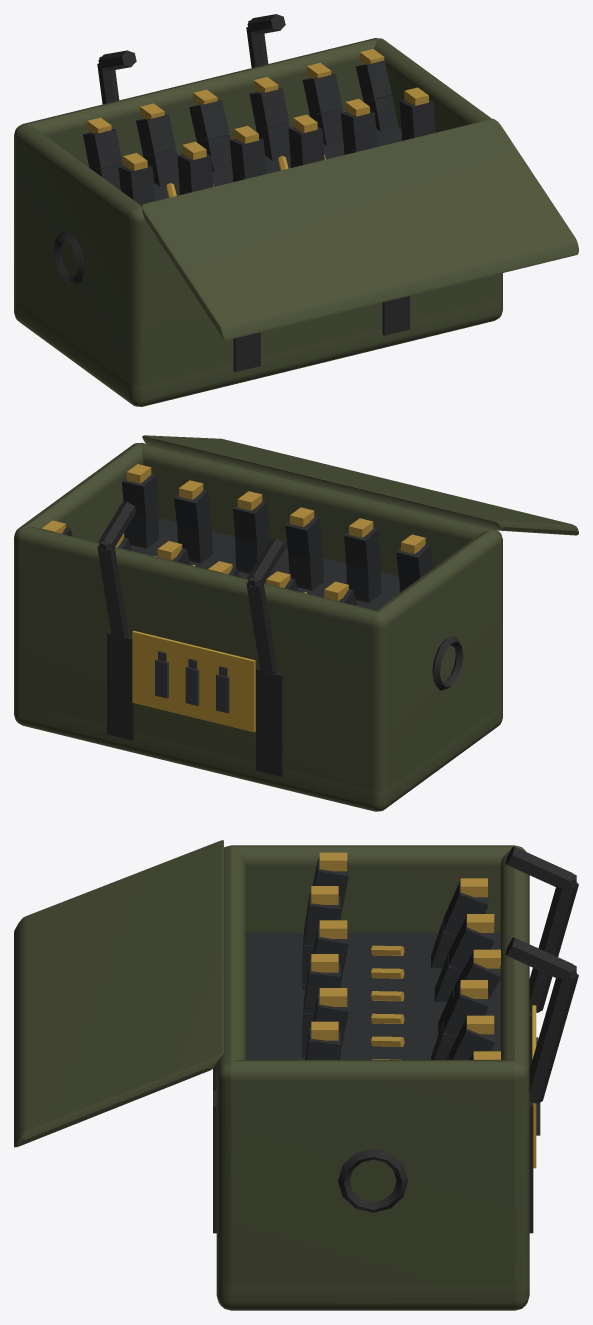
File: prop_deploy_ammo_bag.glb
3 views of the same model, one above another, from view 1: azimuth 30°, elevation 25°; view 2: azimuth 150°, elevation 25°; view 3: azimuth 270°, elevation 25° (orthographic). The views are drawn at different scales.
Parts seen in each view (by area): view 1: Bag; view 2: Bag; view 3: Bag.
Boxes of the visible parts, bbox=[...] form: Bag: bbox=[14, 14, 578, 406]; Bag: bbox=[14, 435, 578, 811]; Bag: bbox=[14, 840, 578, 1310].
Size of the model in its own units: 0.57 by 0.3498 by 0.5782.
